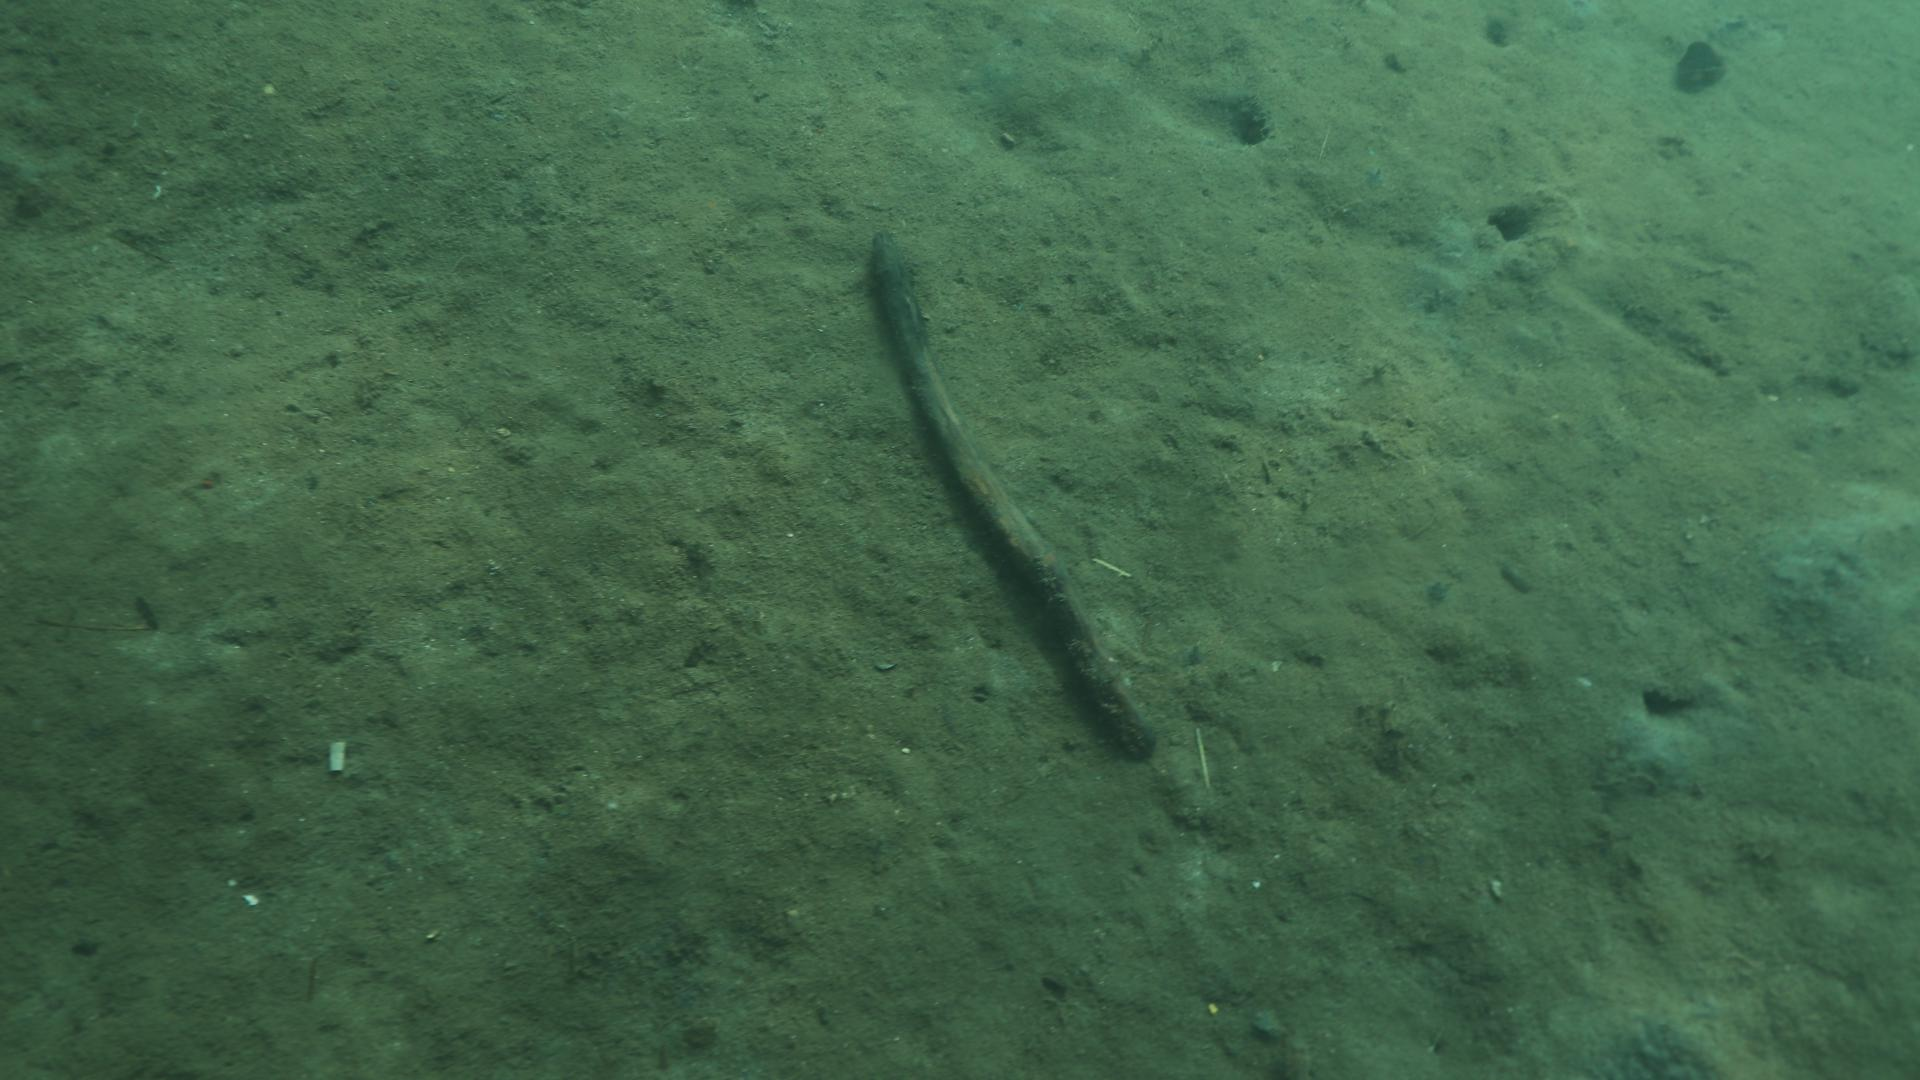wood: (866, 228, 1158, 761)
